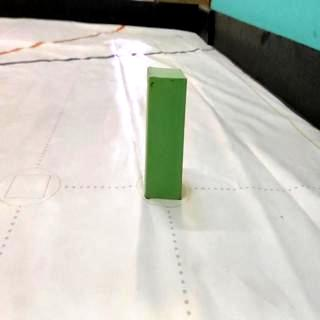greenbox: (146, 64, 188, 200)
